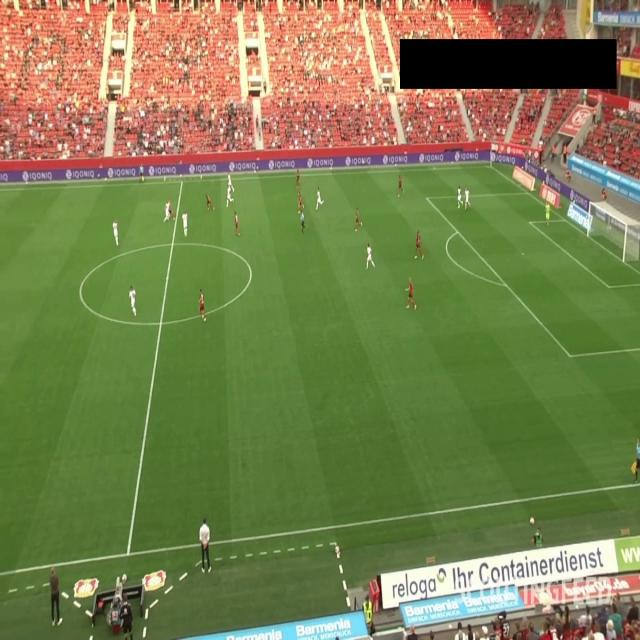player: (128, 283, 138, 317), (414, 228, 424, 262), (198, 288, 206, 324), (407, 276, 415, 308), (366, 241, 374, 270), (354, 206, 362, 232), (233, 210, 241, 234), (113, 221, 120, 247), (205, 192, 214, 212), (316, 185, 323, 210), (182, 210, 188, 237), (167, 200, 174, 222), (228, 170, 235, 192), (226, 184, 232, 206), (298, 192, 304, 214), (165, 200, 171, 221), (296, 169, 300, 191), (399, 174, 403, 195), (457, 186, 461, 207)
